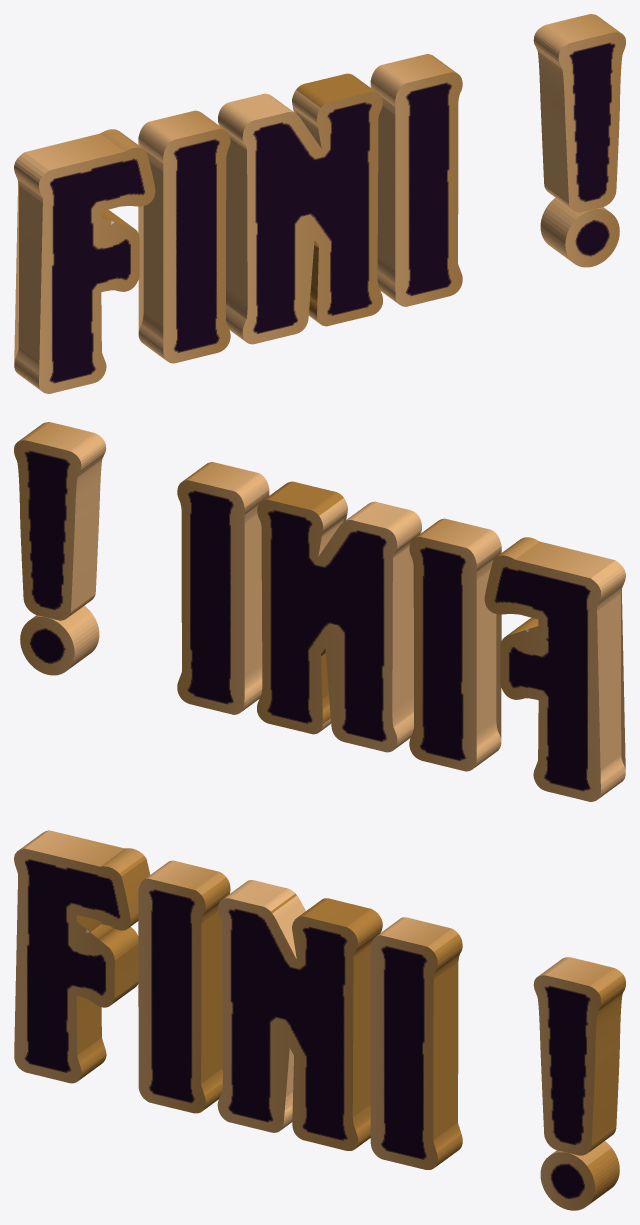
The model's file is Fini.fbx.
3 views of the same model, one above another, from view 1: azimuth 30°, elevation 25°; view 2: azimuth 150°, elevation 25°; view 3: azimuth 330°, elevation 25° (orthographic).
Parts seen in each view (by area): view 1: Fini; view 2: Fini; view 3: Fini.
Boxes of the visible parts, box(x1,y1,x2,y2) form: Fini: box(14, 14, 625, 393); Fini: box(14, 422, 625, 801); Fini: box(14, 830, 625, 1210).
Size of the model in its own units: 273 by 103 by 20.
